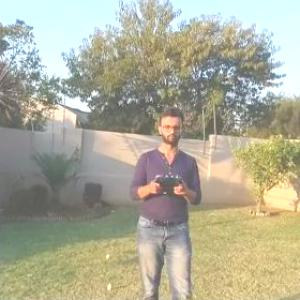follow: (129, 94, 212, 299)
